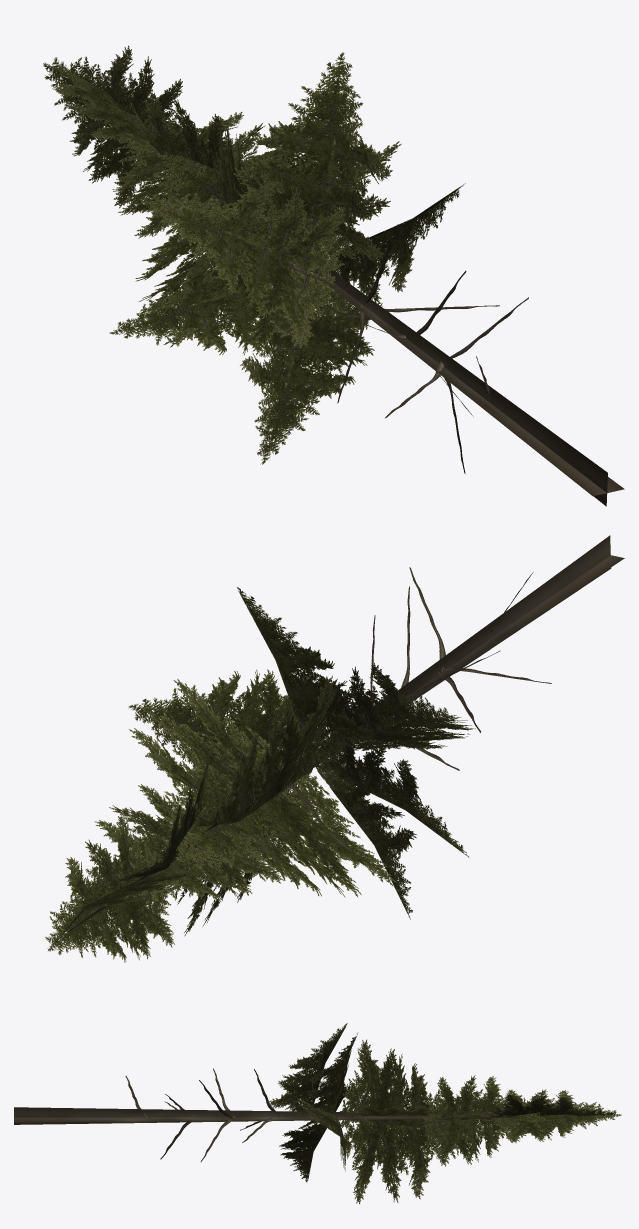
File: MEP_Con_01_b_LOD_01.fbx
The picture shows the model from 3 angles, top to bottom: view 1: azimuth 30°, elevation 25°; view 2: azimuth 150°, elevation 25°; view 3: azimuth 270°, elevation 25°; orthographic projection. The views are drawn at different scales.
Visible parts, largest first — view 1: MEP_Con_01_b_LOD_01; view 2: MEP_Con_01_b_LOD_01; view 3: MEP_Con_01_b_LOD_01.
Part boxes in pixels (left/top/right/bottom): MEP_Con_01_b_LOD_01: left=43, top=45, right=624, bottom=506; MEP_Con_01_b_LOD_01: left=45, top=535, right=624, bottom=962; MEP_Con_01_b_LOD_01: left=14, top=1023, right=621, bottom=1204.
Size of the model in its own units: 9.56 by 8.94 by 26.68.
